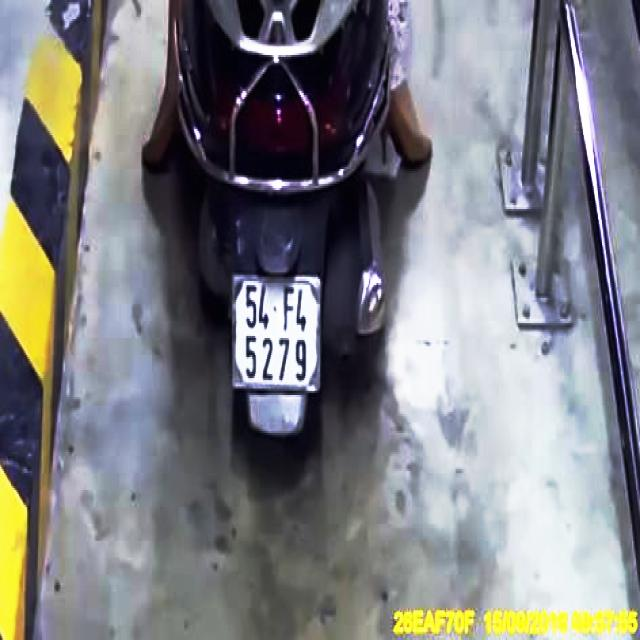license_plate: (235, 273, 321, 398)
